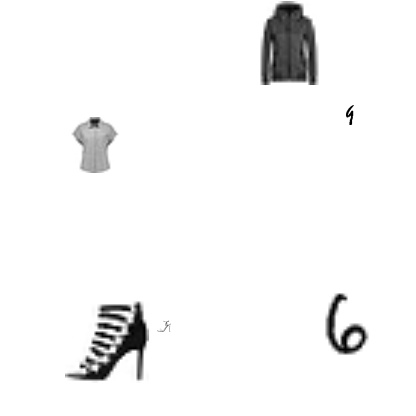6: (299, 288, 383, 372)
9: (336, 100, 364, 128)
Coat: (246, 1, 330, 85)
Sandal: (65, 299, 149, 383), (157, 319, 171, 333)
Shirt: (66, 117, 122, 173)
